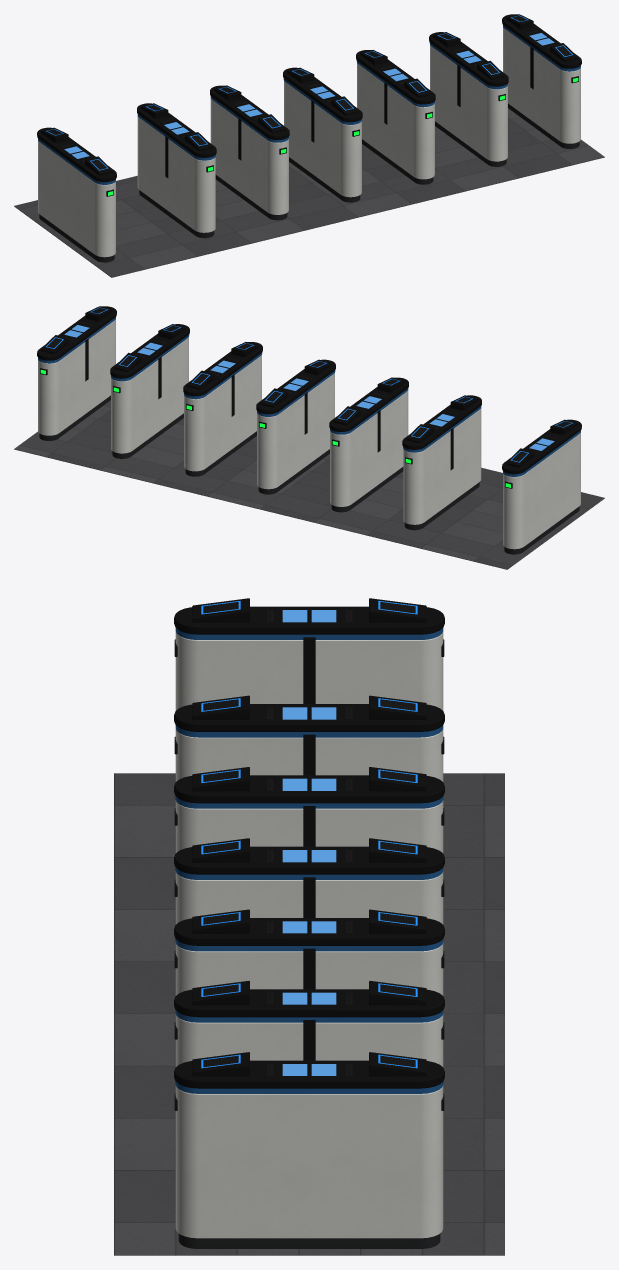
The model's file is gteki_gate_array_6w1.glb.
3 renders of one model, top to bottom at view 1: azimuth 30°, elevation 25°; view 2: azimuth 150°, elevation 25°; view 3: azimuth 270°, elevation 25°, orthographic. The views are drawn at different scales.
Visible parts, largest first — view 1: VIS_cabinets, VIS_floor; view 2: VIS_cabinets, VIS_floor; view 3: VIS_cabinets, VIS_floor.
Boxes of the visible parts, left/top/right/bottom form: VIS_cabinets: left=37, top=14, right=581, bottom=262; VIS_floor: left=14, top=108, right=604, bottom=277; VIS_cabinets: left=37, top=306, right=581, bottom=554; VIS_floor: left=14, top=400, right=604, bottom=569; VIS_cabinets: left=174, top=598, right=444, bottom=1248; VIS_floor: left=114, top=773, right=504, bottom=1255.
Size of what is drawn, in the model's own units: 5.54 by 0.9846 by 1.9.
Materials: 11 (2 with a texture image).
